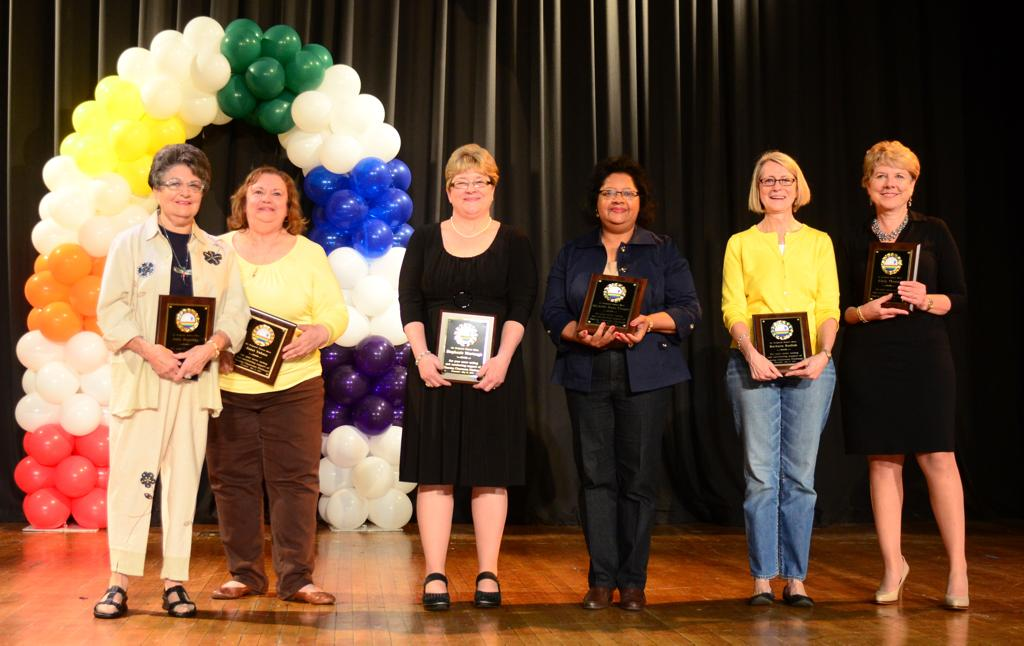face: (160, 163, 203, 217), (597, 172, 640, 224), (451, 165, 492, 215), (871, 159, 911, 210), (759, 162, 797, 211), (247, 178, 288, 223)
